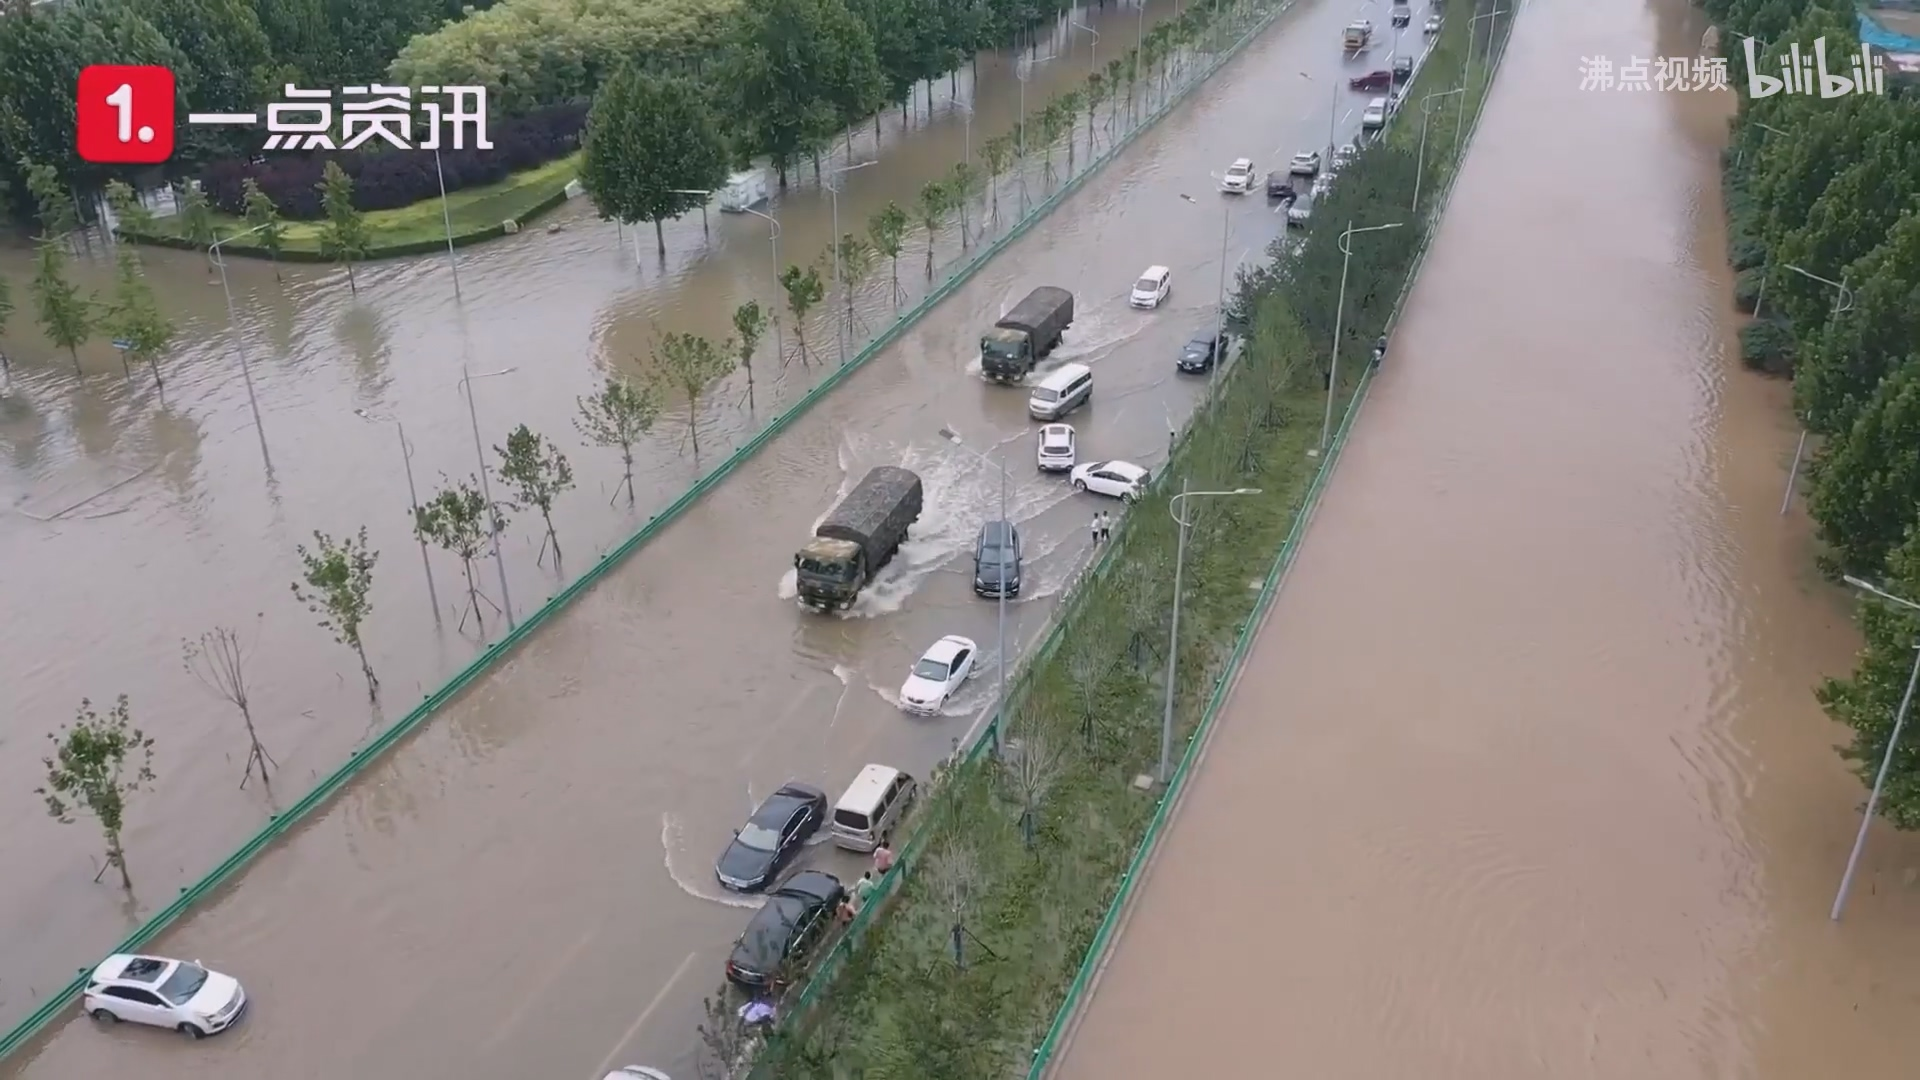puddle: (45, 207, 949, 1080), (1282, 334, 1884, 1080)
